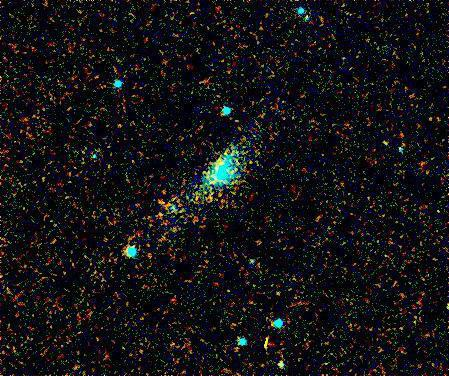star: (235, 146, 265, 176)
